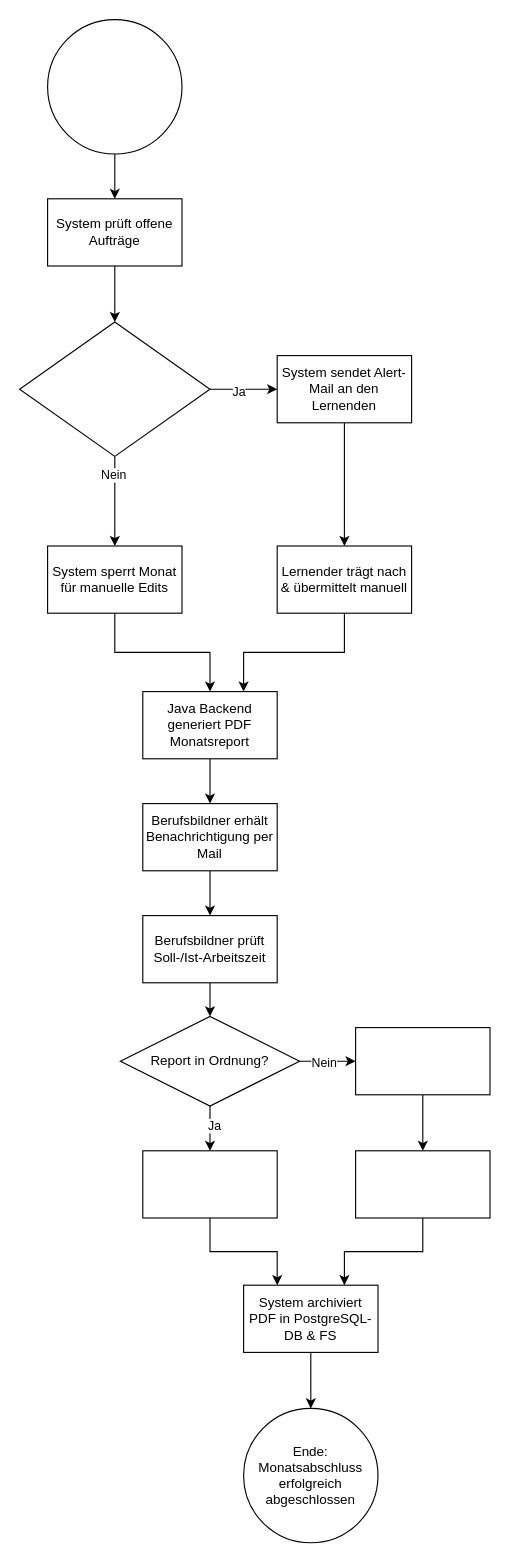
Some shapes in this 510 by 1562 pixel diagram are drawn without their labels. The box of each missing label's shape, as (x1, y1, x2, y2) in pixels:
Berufsbildner visiert Report digital in App: (142, 1150, 277, 1218)
Gibt es nicht übermittelte Aufträge?: (18, 321, 210, 456)
Monat wird temporär für Korrekturen entsperrt: (354, 1150, 490, 1218)
Report abgelehnt: Mail mit Begründungen an Lernenden: (354, 1026, 490, 1095)
Start: Cronjob triggert Monatswechsel: (46, 18, 182, 154)
